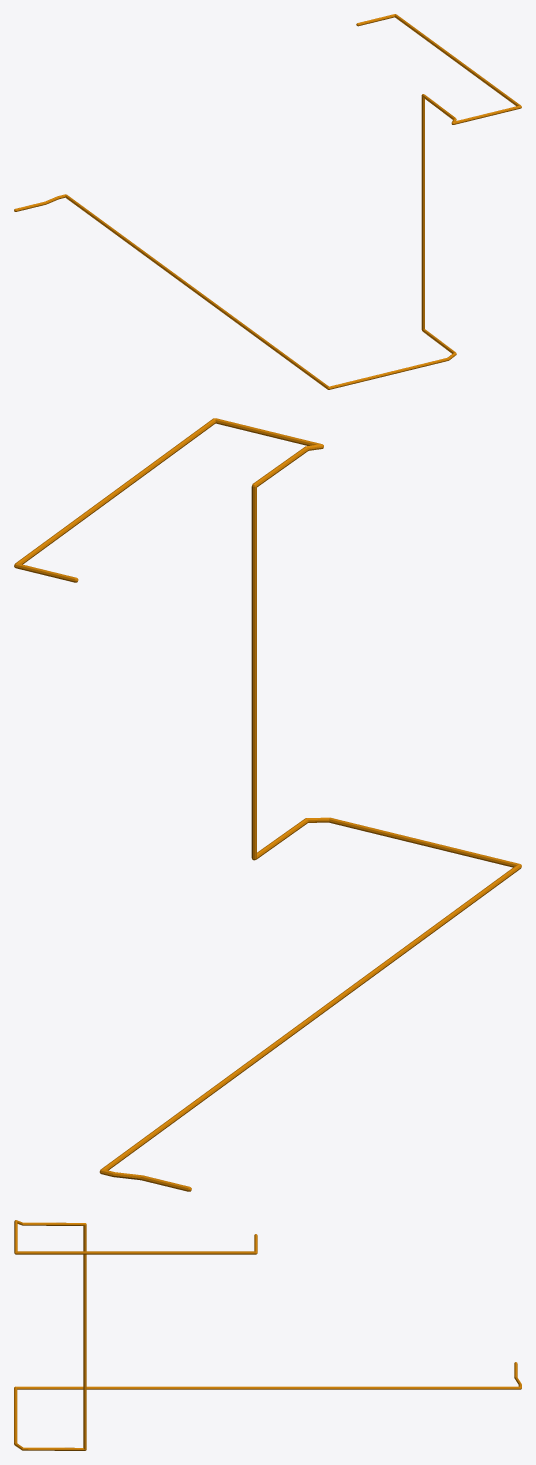
3 renders of one model, top to bottom at view 1: azimuth 30°, elevation 25°; view 2: azimuth 150°, elevation 25°; view 3: azimuth 270°, elevation 25°, orthographic. The views are drawn at different scales.
Bounding box in the file's own units: 1656 × 1520 × 3070.
